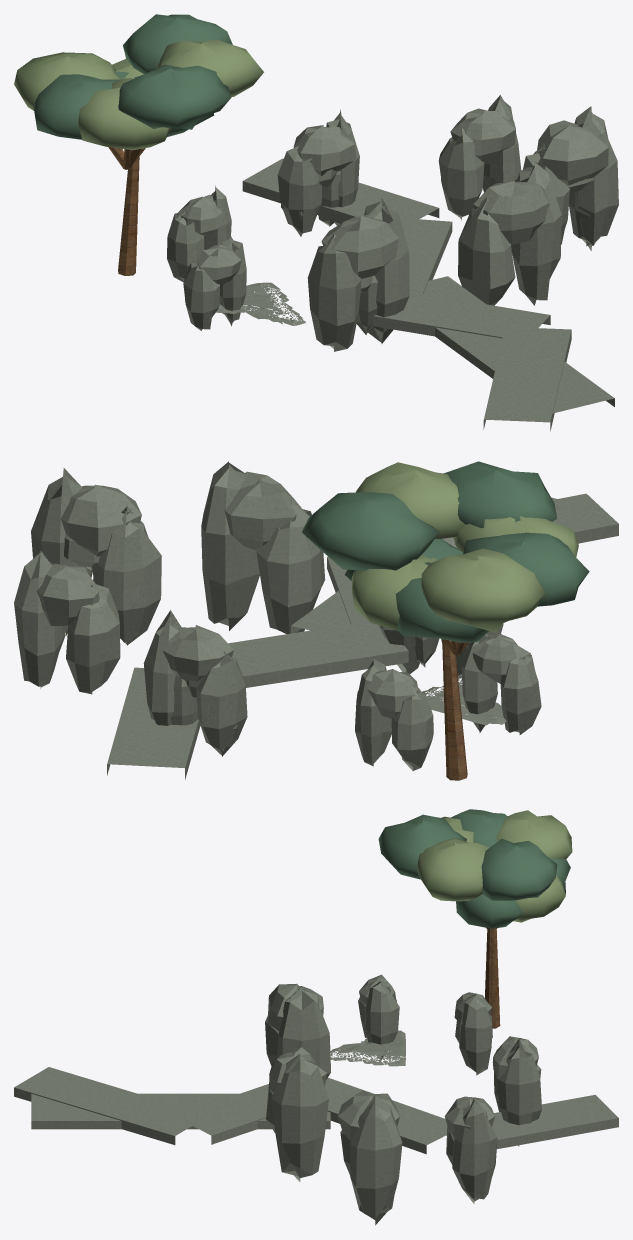
The model's file is qujingtongyou.glb.
The picture shows the model from 3 angles, top to bottom: view 1: azimuth 30°, elevation 25°; view 2: azimuth 150°, elevation 25°; view 3: azimuth 270°, elevation 25°; orthographic projection. The views are drawn at different scales.
Parts seen in each view (by area): view 1: qujingtongyou_stone, qujingtongyou_leaf, qujingtongyou_lightleaf, qujingtongyou_wood, PolyHaven_coast_rocks_02.001; view 2: qujingtongyou_stone, qujingtongyou_leaf, qujingtongyou_lightleaf, qujingtongyou_wood, PolyHaven_coast_rocks_02.001; view 3: qujingtongyou_stone, qujingtongyou_leaf, qujingtongyou_lightleaf, PolyHaven_coast_rocks_02.001, qujingtongyou_wood.
Boxes of the visible parts, x1=… form: qujingtongyou_stone: x1=167, y1=95, x2=618, y2=431; qujingtongyou_leaf: x1=33, y1=14, x2=232, y2=139; qujingtongyou_lightleaf: x1=14, y1=39, x2=263, y2=150; qujingtongyou_wood: x1=108, y1=147, x2=145, y2=275; PolyHaven_coast_rocks_02.001: x1=216, y1=282, x2=305, y2=325; qujingtongyou_stone: x1=14, y1=461, x2=618, y2=779; qujingtongyou_leaf: x1=302, y1=461, x2=589, y2=642; qujingtongyou_lightleaf: x1=351, y1=462, x2=578, y2=632; qujingtongyou_wood: x1=442, y1=639, x2=469, y2=780; PolyHaven_coast_rocks_02.001: x1=422, y1=674, x2=506, y2=725; qujingtongyou_stone: x1=14, y1=974, x2=618, y2=1225; qujingtongyou_leaf: x1=378, y1=809, x2=570, y2=928; qujingtongyou_lightleaf: x1=417, y1=810, x2=572, y2=922; PolyHaven_coast_rocks_02.001: x1=330, y1=1030, x2=405, y2=1066; qujingtongyou_wood: x1=485, y1=927, x2=500, y2=1028.
Bounding box in the file's own units: 23.26 × 11.26 × 26.27.
4 materials, 2 textured.
